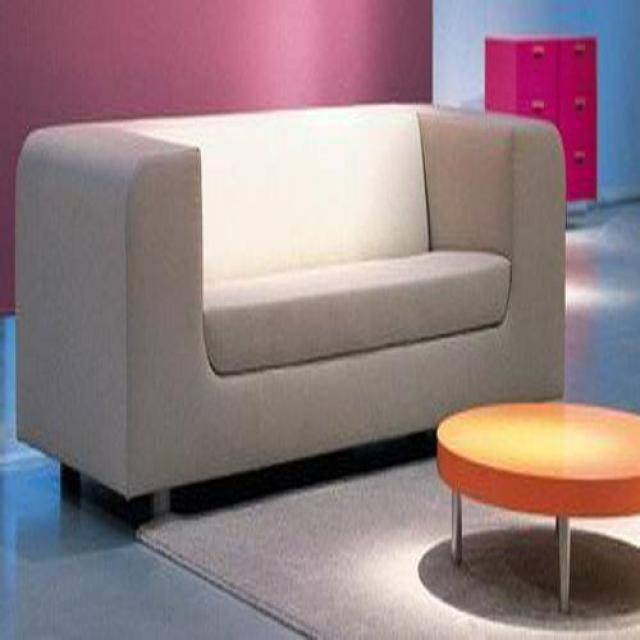sofa: (14, 104, 567, 503)
